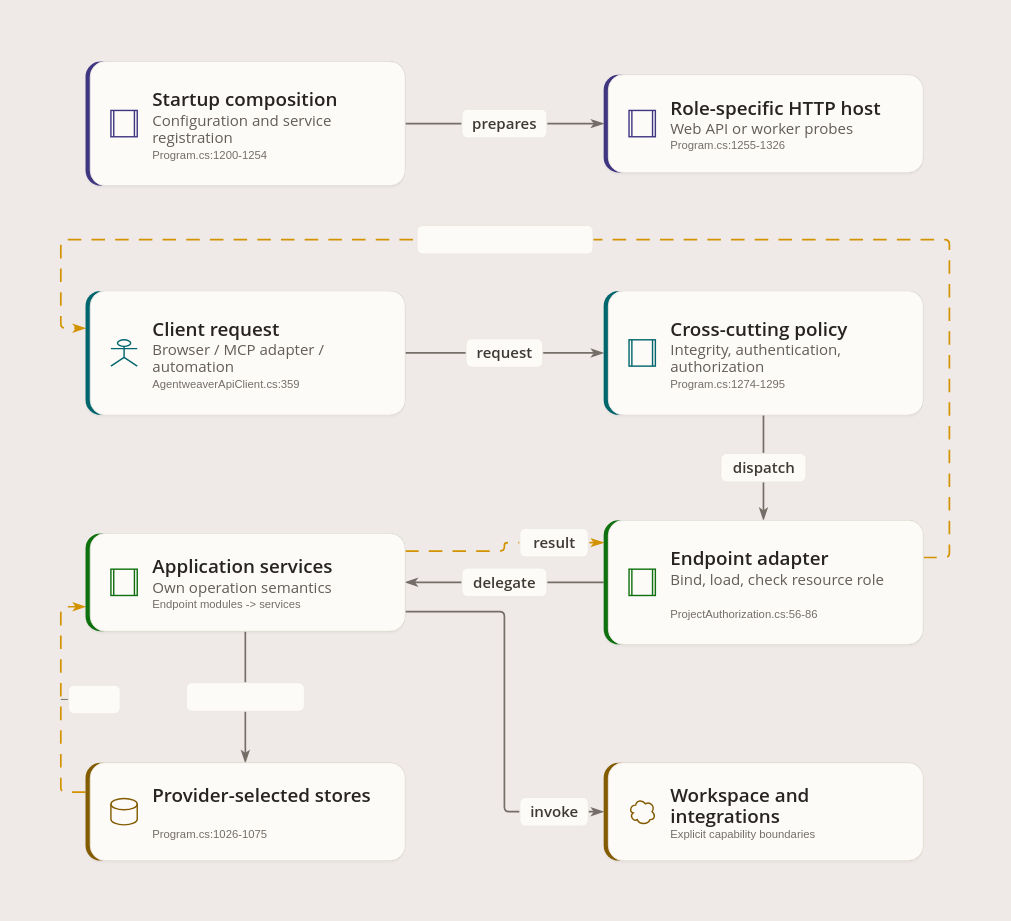
Image size: 1011x921. Some labels were removed from this diagram. The centre of each missing label's shape, as x and y in pixels:
DTO / HTTP response: pixel 504 239
read / write: pixel 244 696
rows: pixel 93 699
